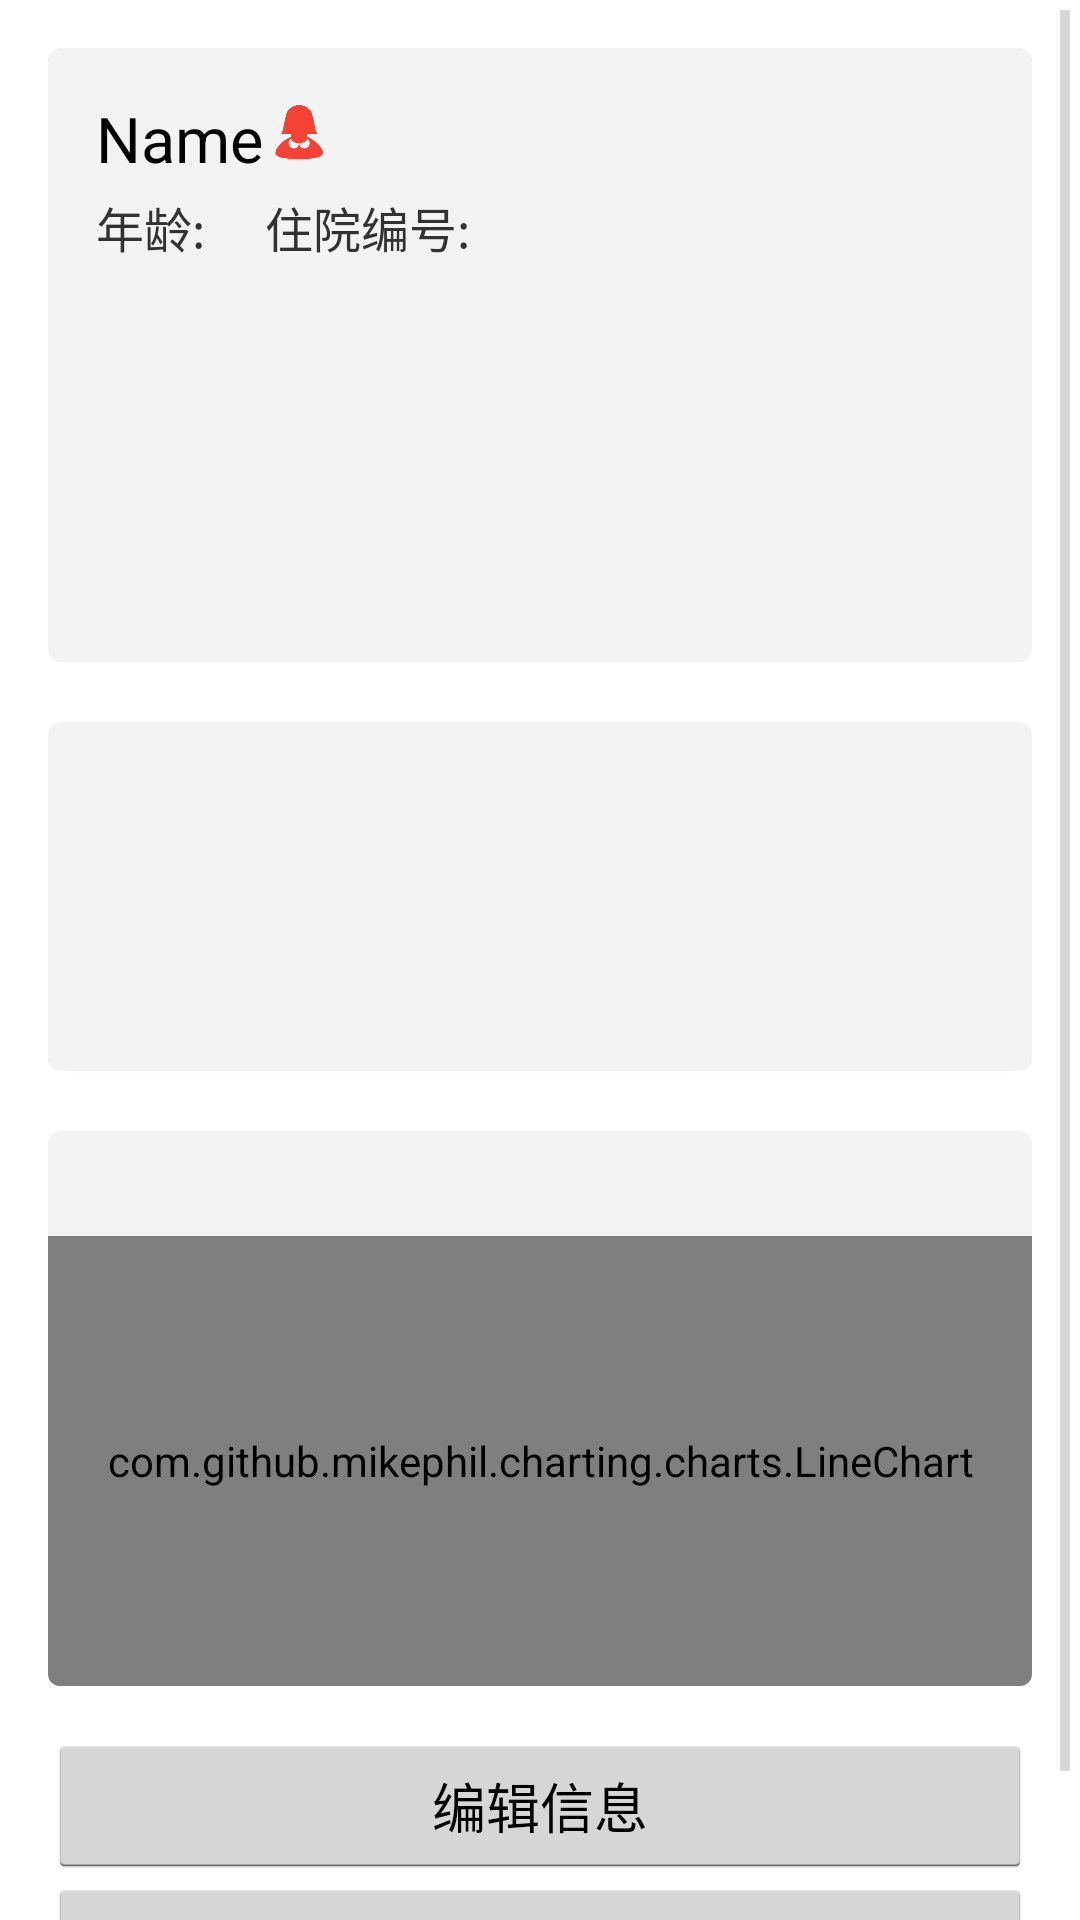

Named icons in this screenshot (1080px x 1920px) and their centers, (x,y):
头像: (299,132)
